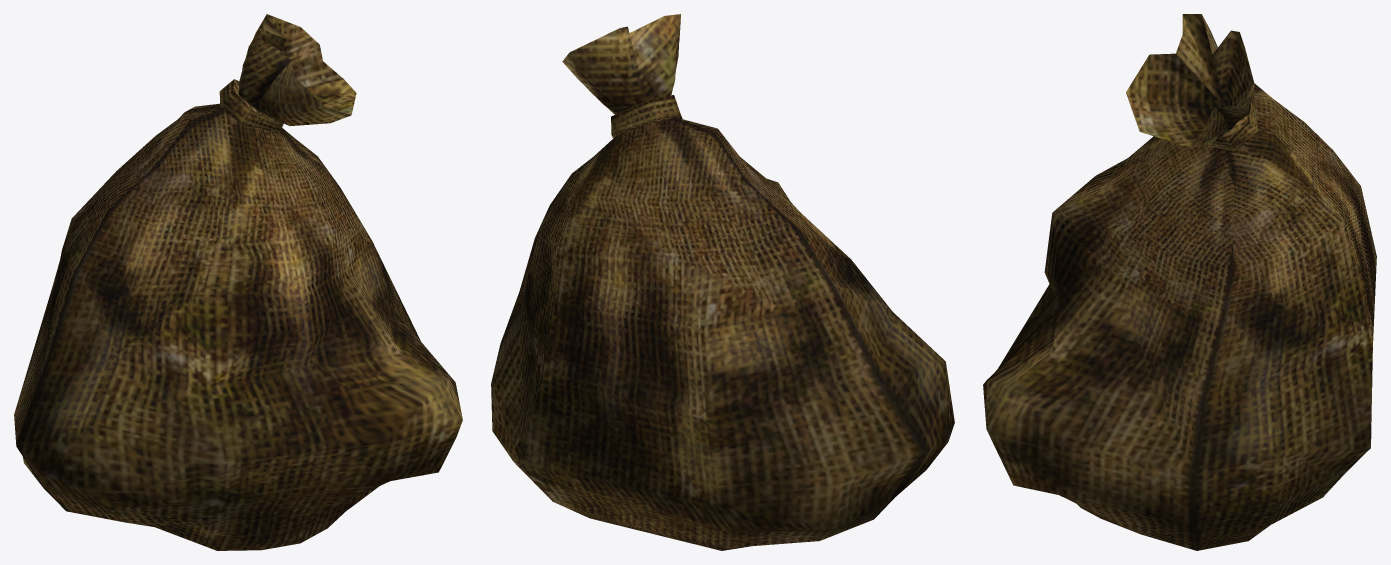
The model's file is Item.fbx.
3 views of the same model, side by side, from view 1: azimuth 30°, elevation 25°; view 2: azimuth 150°, elevation 25°; view 3: azimuth 270°, elevation 25° (orthographic). The views are drawn at different scales.
Visible parts, largest first — view 1: o1146; view 2: o1146; view 3: o1146.
Boxes of the visible parts, x1,y1,x2,y2 form: o1146: (14,14,462,550); o1146: (491,14,954,550); o1146: (983,14,1376,550).
Size of the model in its own units: 0.769 by 0.8431 by 0.6085.
